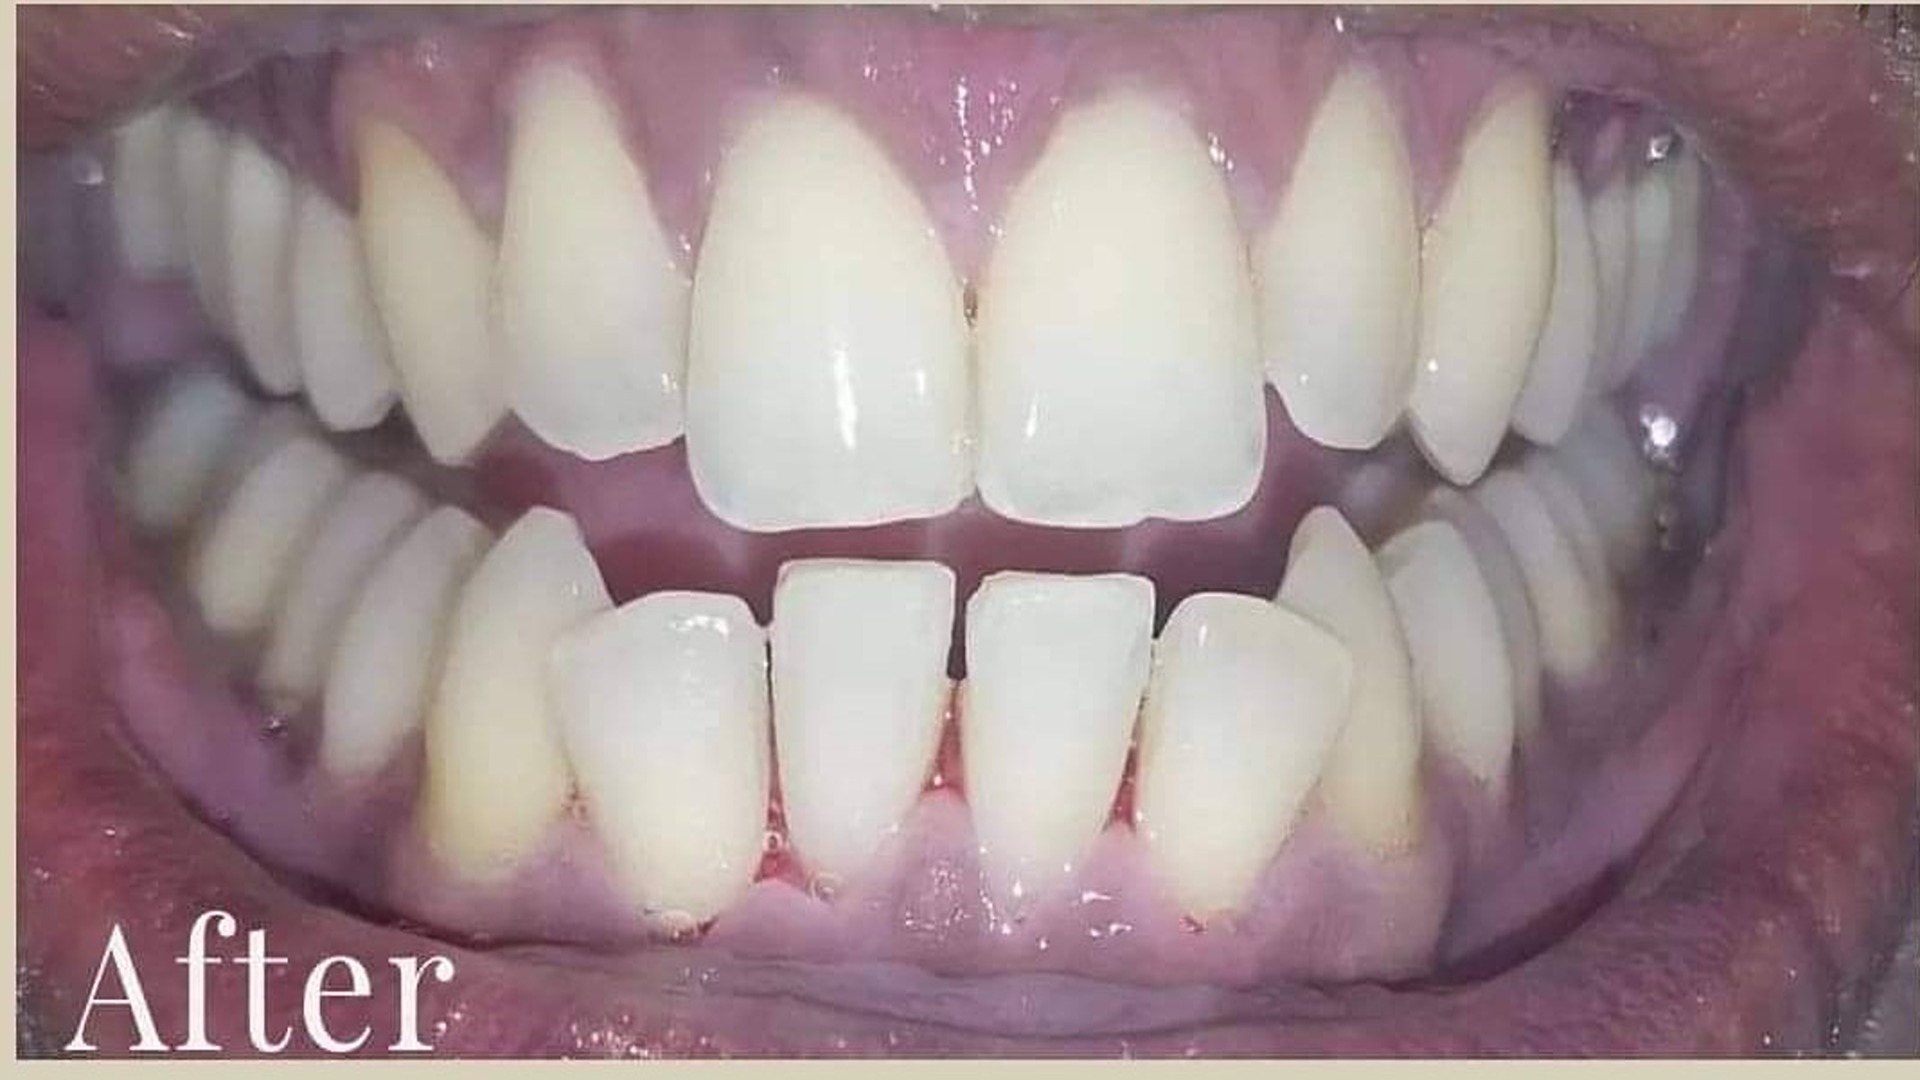tooth: (684, 96, 979, 534), (974, 92, 1266, 528), (546, 590, 771, 937), (496, 64, 692, 461), (420, 505, 613, 881), (1135, 593, 1352, 922), (961, 570, 1155, 904), (769, 558, 957, 901), (189, 436, 416, 720), (1256, 65, 1421, 449), (1408, 78, 1554, 485), (353, 114, 508, 465), (1275, 506, 1423, 856), (318, 504, 494, 777), (174, 114, 304, 398), (1375, 521, 1514, 782), (291, 175, 404, 429)
